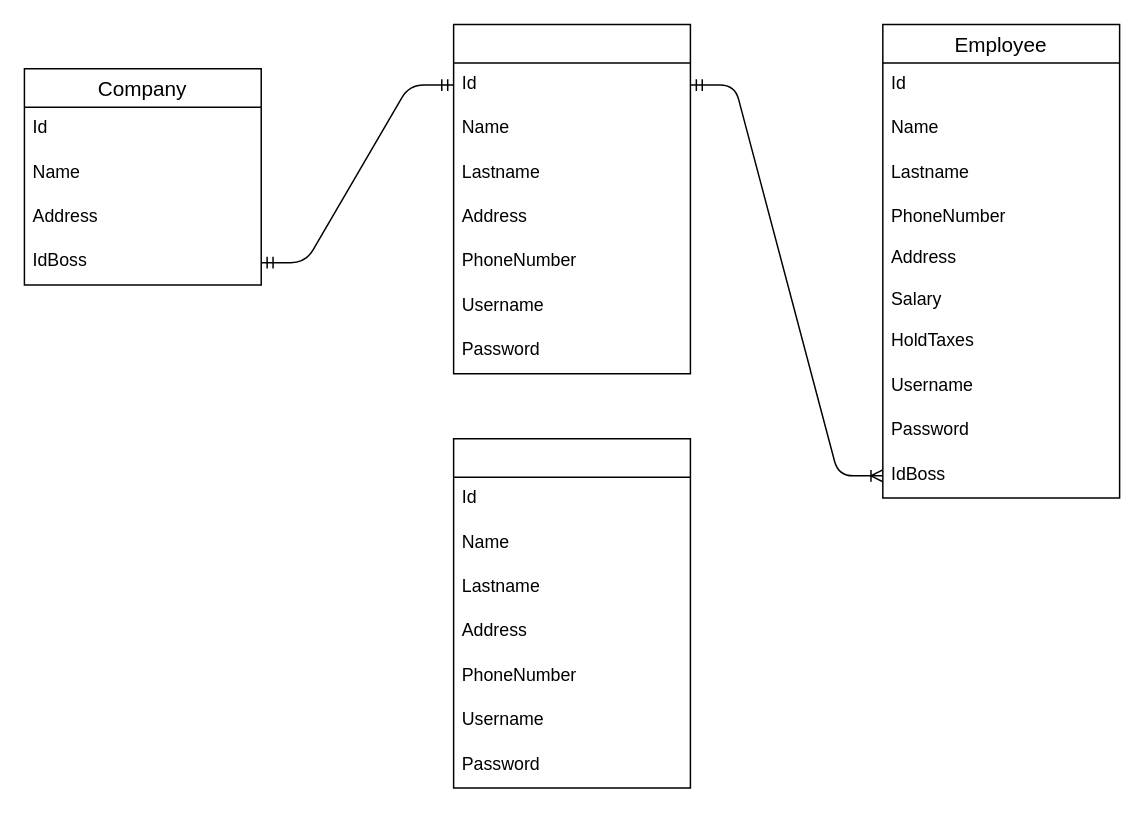
The diagram is 1144 pixels wide and 813 high, and some of its shapes have lost their labels. The shapes that lost their labels are listed below. From the top down, each one's box as (x1, y1, x2, y2) in pixels, then its label:
(452, 23, 690, 374): Boss
(452, 437, 690, 788): Admin
